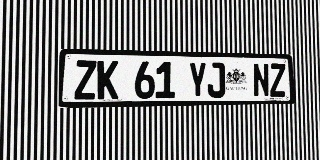1: (155, 61, 175, 98)
6: (135, 61, 155, 99)
J: (207, 62, 225, 98)
K: (97, 60, 118, 99)
N: (253, 63, 270, 97)
Y: (188, 62, 207, 98)
Z: (74, 60, 97, 100), (269, 63, 286, 97)
